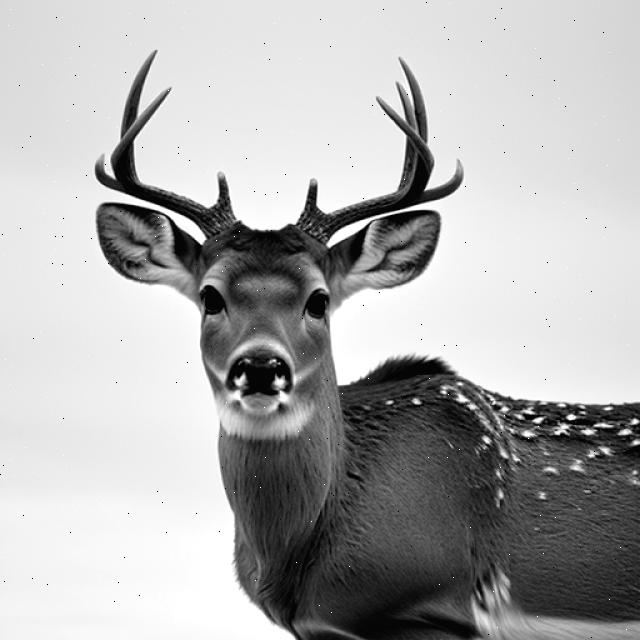deer: (56, 37, 515, 464)
